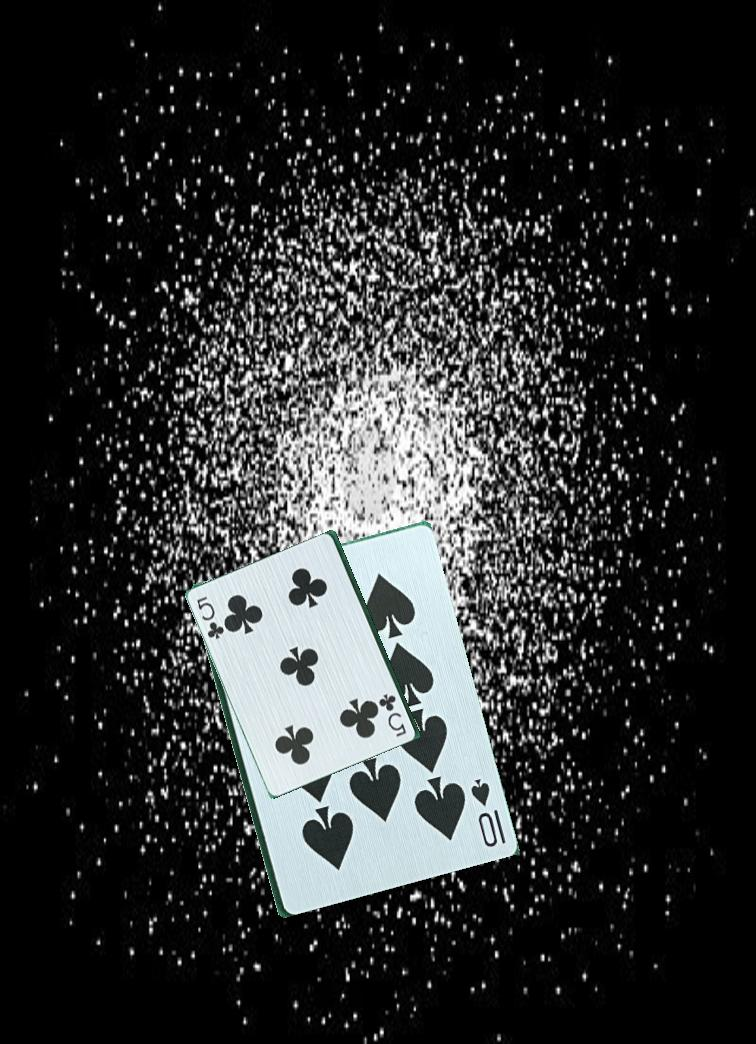5c: (192, 593, 227, 644), (376, 690, 409, 742)
ts: (466, 774, 508, 850)
